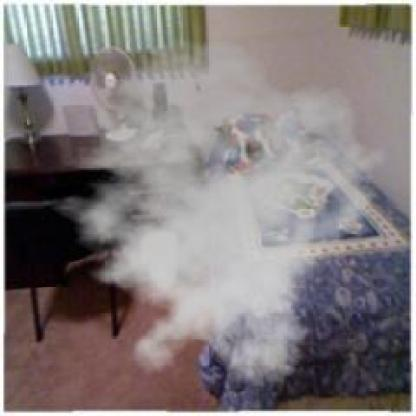Smoke: (36, 37, 396, 388)
